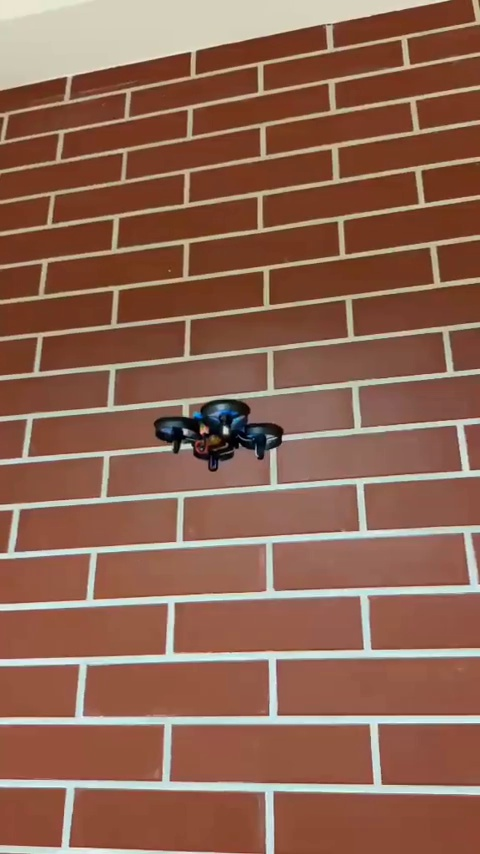drone: (146, 398, 285, 467)
